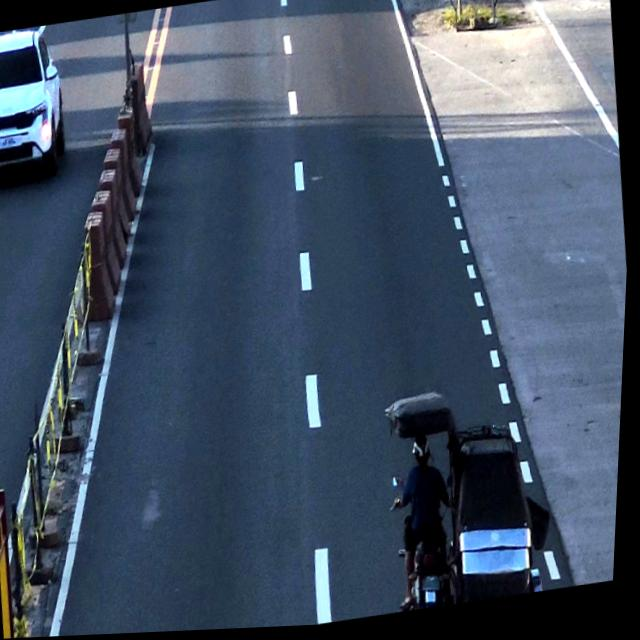Tricycle: (384, 390, 564, 616)
